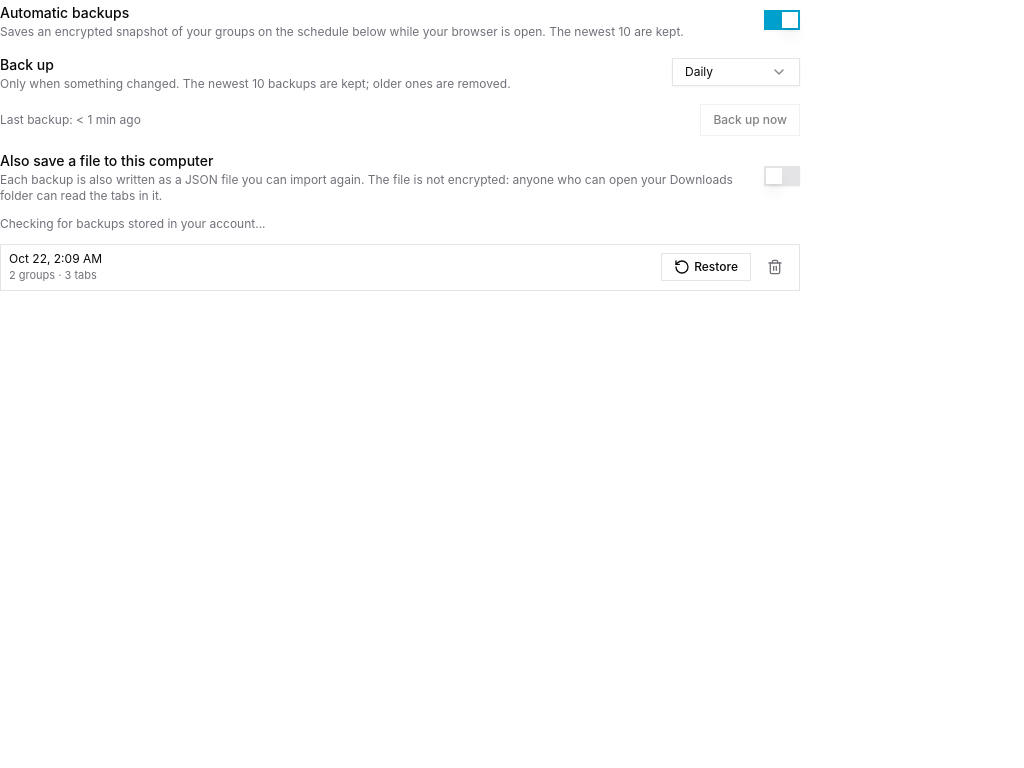
Test: AutoBackups — restore and delete › delete does nothing when cancelled
The image size is (1024, 768).
Click the button named "Delete backup from". click: (775, 267)
box: [759,253,791,281]
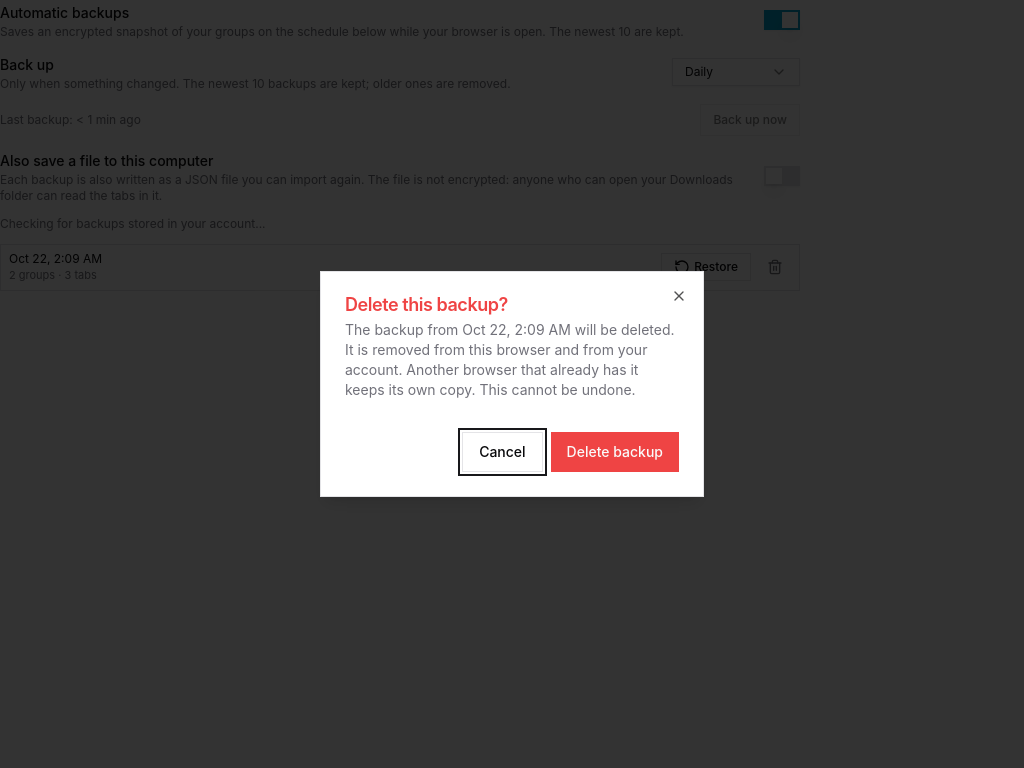
Click the button "Cancel". click: (502, 452)
box: [462,432,543,472]
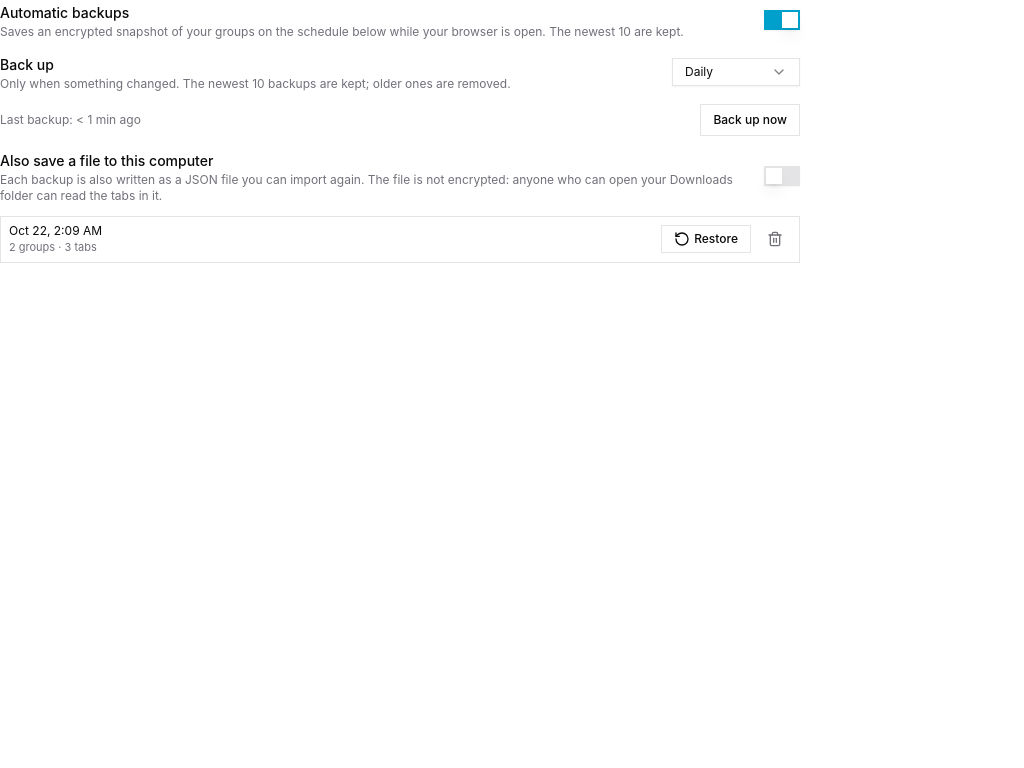
Expected: the dialog is gone
